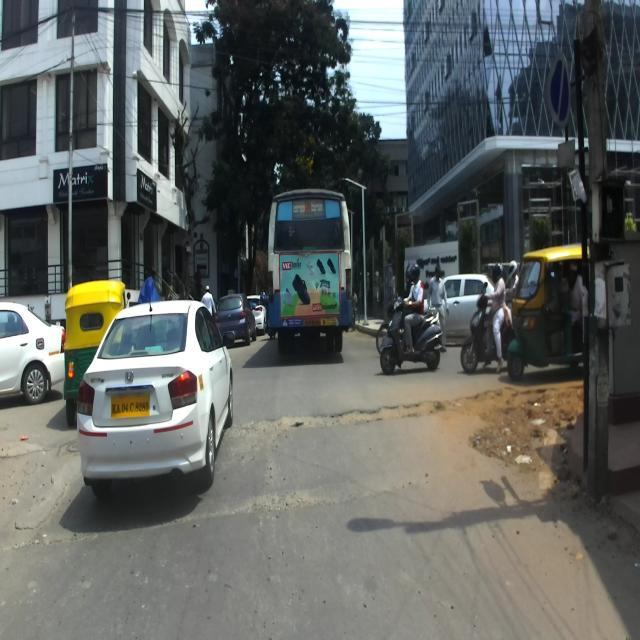Pothole: (238, 391, 490, 441)
